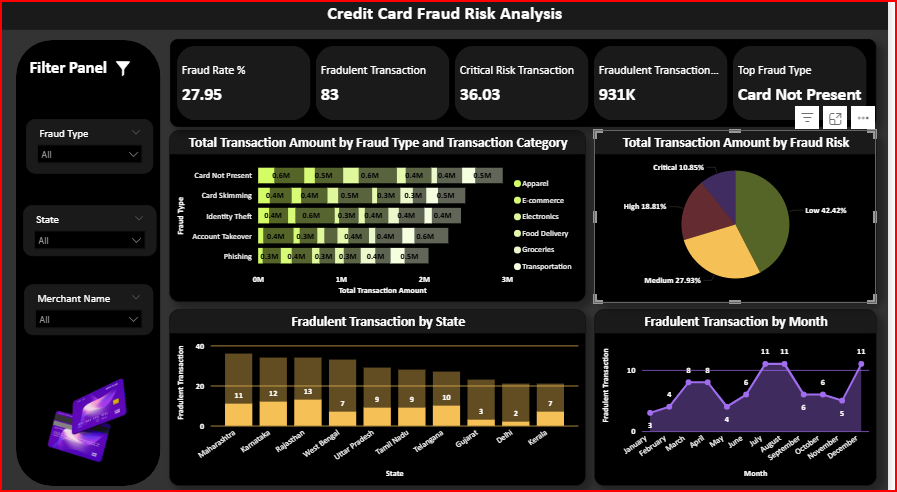

What the dashboard file says about the page in this screenshot:
{"tool":"powerbi","page":{"name":"Page 1","canvas":[1280,720],"ordinal":0},"visuals":[{"type":"textbox","box":[0,0,1280.6,46.3],"z":0},{"type":"shape","box":[20.9,61.2,209,644.8],"z":1000},{"type":"textbox","box":[34.3,80.6,141.8,46.3],"z":2000},{"type":"image","box":[144.8,80.6,61.2,43.3],"z":3000},{"type":"barChart","fields":{"Y":["Credit Card Fraud Risk Analysis.Total Transaction Amount"],"Category":["Credit Card Fraud Risk Analysis.Fraud Type"],"Series":["Credit Card Fraud Risk Analysis.Transaction Category"]},"box":[241.8,191,603,249.3],"z":4000},{"type":"pieChart","fields":{"Y":["Credit Card Fraud Risk Analysis.Total Transaction Amount"],"Category":["Credit Card Fraud Risk Analysis.Fraud Risk"]},"box":[855.2,191,409,249.3],"z":5000},{"type":"columnChart","fields":{"Category":["Credit Card Fraud Risk Analysis.State"],"Y":["Credit Card Fraud Risk Analysis.Fradulent Transaction"]},"box":[241.4,450,602.9,255.7],"z":6000},{"type":"lineChart","fields":{"Y":["Credit Card Fraud Risk Analysis.Fradulent Transaction"],"Category":["Credit Card Fraud Risk Analysis.Transaction Date.Variation.Date Hierarchy.Month"]},"box":[855.7,450,408.6,255.7],"z":7000},{"type":"slicer","fields":{"Values":["Credit Card Fraud Risk Analysis.Fraud Type"]},"box":[34.3,174.3,184.3,78.6],"z":8000},{"type":"slicer","fields":{"Values":["Credit Card Fraud Risk Analysis.State"]},"box":[30,298.6,192.9,74.3],"z":9000},{"type":"slicer","fields":{"Values":["Credit Card Fraud Risk Analysis.Merchant Name"]},"box":[31.4,412.9,187.1,74.3],"z":10000},{"type":"image","box":[0,530,191.4,162.9],"z":11000},{"type":"cardVisual","fields":{"Data":["Credit Card Fraud Risk Analysis.Fraud Rate %","Credit Card Fraud Risk Analysis.Fradulent Transaction","Credit Card Fraud Risk Analysis.Critical Risk Transaction","Credit Card Fraud Risk Analysis.Fraudulent Transaction Amount","Credit Card Fraud Risk Analysis.Top Fraud Type"]},"box":[242.9,58.6,1021.4,127.1],"z":12000}]}

Visuals, with their boxes in screenshot pixels (x1, y1, x2, y2), scaled from the page's 1280x720 canvas onto the 897x492 screenshot:
textbox: x1=0 y1=0 x2=896 y2=32
shape: x1=15 y1=42 x2=161 y2=482
textbox: x1=24 y1=55 x2=123 y2=87
image: x1=101 y1=55 x2=144 y2=85
barChart - Credit Card Fraud Risk Analysis.Total Transaction Amount x Credit Card Fraud Risk Analysis.Fraud Type: x1=169 y1=131 x2=592 y2=301
pieChart - Credit Card Fraud Risk Analysis.Total Transaction Amount x Credit Card Fraud Risk Analysis.Fraud Risk: x1=599 y1=131 x2=886 y2=301
columnChart - Credit Card Fraud Risk Analysis.State x Credit Card Fraud Risk Analysis.Fradulent Transaction: x1=169 y1=308 x2=592 y2=482
lineChart - Credit Card Fraud Risk Analysis.Fradulent Transaction x Credit Card Fraud Risk Analysis.Transaction Date.Variation.Date Hierarchy.Month: x1=600 y1=308 x2=886 y2=482
slicer - Credit Card Fraud Risk Analysis.Fraud Type: x1=24 y1=119 x2=153 y2=173
slicer - Credit Card Fraud Risk Analysis.State: x1=21 y1=204 x2=156 y2=255
slicer - Credit Card Fraud Risk Analysis.Merchant Name: x1=22 y1=282 x2=153 y2=333
image: x1=0 y1=362 x2=134 y2=473
cardVisual - Credit Card Fraud Risk Analysis.Fraud Rate % x Credit Card Fraud Risk Analysis.Fradulent Transaction: x1=170 y1=40 x2=886 y2=127
